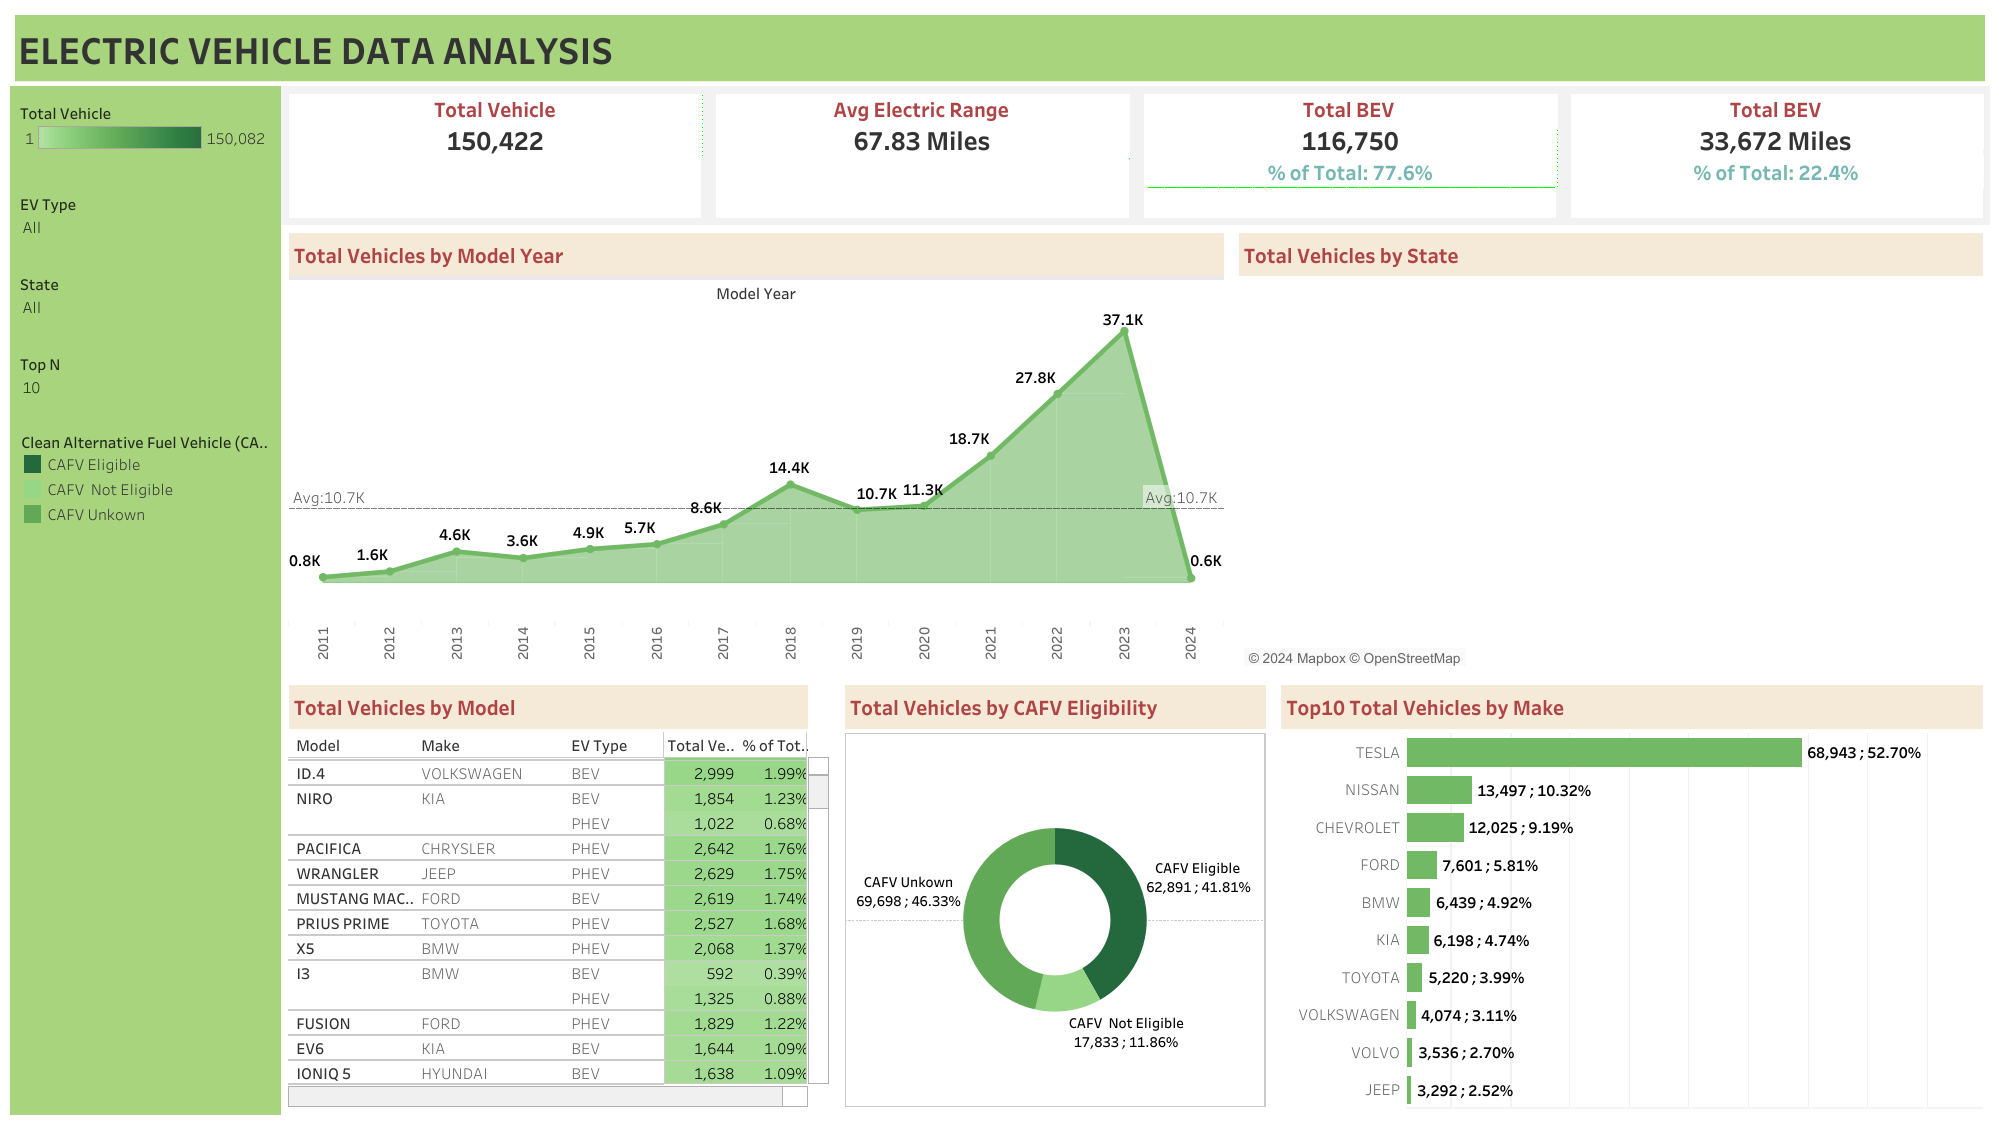

What the dashboard file says about the page in this screenshot:
{"tool":"tableau","page":{"name":"Dashboard 1","canvas":[1600,900],"ordinal":0},"visuals":[{"type":"title","box":[8,8,1584,60.9]},{"type":"legend","title":"Total Vehicles by State","param":"[federated.0jg4htg1wh00tk1awl9y31wnmju2].[usr:Calculation_1612007220285931520:qk","box":[8,68.9,216.9,81]},{"type":"worksheet","title":"Total Vehicle","mark":"Automatic","box":[225,69,342,111]},{"type":"worksheet","title":"Avg Electric Range","mark":"Automatic","box":[567,69,342,111]},{"type":"worksheet","title":"Total BEV","mark":"Automatic","box":[909,69,342,111]},{"type":"worksheet","title":"Total PHEV","mark":"Automatic","box":[1251,69,341,111]},{"type":"filter","title":"Top 10 Total Vehicles by Make","param":"[federated.0jg4htg1wh00tk1awl9y31wnmju2].[none:Electric Vehicle Type:nk]","box":[8,149.9,216.9,61]},{"type":"worksheet","title":"Total Vehicles by Model Year","mark":"Area","rows":["Calculation_1612007220285931520","Calculation_1612007220285931520"],"cols":["Model Year"],"box":[224.9,179.9,760,362]},{"type":"worksheet","title":"Total Vehicles by State","mark":"Multipolygon","box":[984.9,179.9,607.1,362]},{"type":"filter","title":"Top 10 Total Vehicles by Make","param":"[federated.0jg4htg1wh00tk1awl9y31wnmju2].[none:State:nk]","box":[8,211,216.9,61]},{"type":"parameter","param":"[Parameters].[Parameter 1]","box":[8,272,216.9,56]},{"type":"legend","title":"Total Vehicles by CAFV Eligibility","param":"[federated.0jg4htg1wh00tk1awl9y31wnmju2].[none:Clean Alternative Fuel Vehicle (C","box":[8,328,216.9,101]},{"type":"worksheet","title":"Total Vehicles by Model","mark":"Square","rows":["Model","Make","Electric Vehicle Type"],"box":[224.9,541.9,445,350.1]},{"type":"worksheet","title":"Total Vehicles by CAFV Eligibility","mark":"Pie","rows":["Calculation_1612007220321730568","Calculation_1612007220321730568"],"box":[669.9,541.9,349,350.1]},{"type":"worksheet","title":"Top 10 Total Vehicles by Make","mark":"Automatic","rows":["Make"],"cols":["Calculation_1612007220285931520"],"box":[1018.9,541.9,573.1,350.1]}]}

Visuals, with their boxes in screenshot pixels (x1, y1, x2, y2), scaled from the page's 1600x900 canvas onto the 1999x1124 screenshot:
title: 10,10,1989,86
"Total Vehicles by State" legend: 10,86,281,187
"Total Vehicle" worksheet: 281,86,708,225
"Avg Electric Range" worksheet: 708,86,1136,225
"Total BEV" worksheet: 1136,86,1563,225
"Total PHEV" worksheet: 1563,86,1989,225
"Top 10 Total Vehicles by Make" filter: 10,187,281,263
"Total Vehicles by Model Year" worksheet (Area marks): 281,225,1231,677
"Total Vehicles by State" worksheet (Multipolygon marks): 1231,225,1989,677
"Top 10 Total Vehicles by Make" filter: 10,264,281,340
parameter: 10,340,281,410
"Total Vehicles by CAFV Eligibility" legend: 10,410,281,536
"Total Vehicles by Model" worksheet (Square marks): 281,677,837,1114
"Total Vehicles by CAFV Eligibility" worksheet (Pie marks): 837,677,1273,1114
"Top 10 Total Vehicles by Make" worksheet: 1273,677,1989,1114
